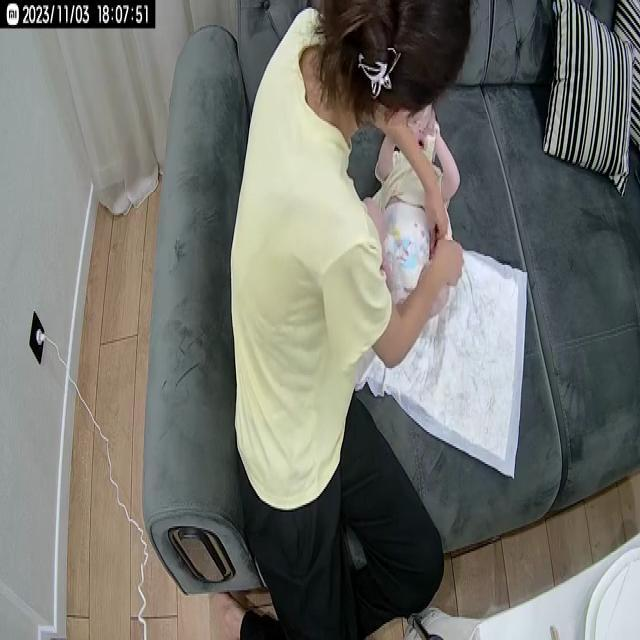baby: (370, 96, 460, 348)
